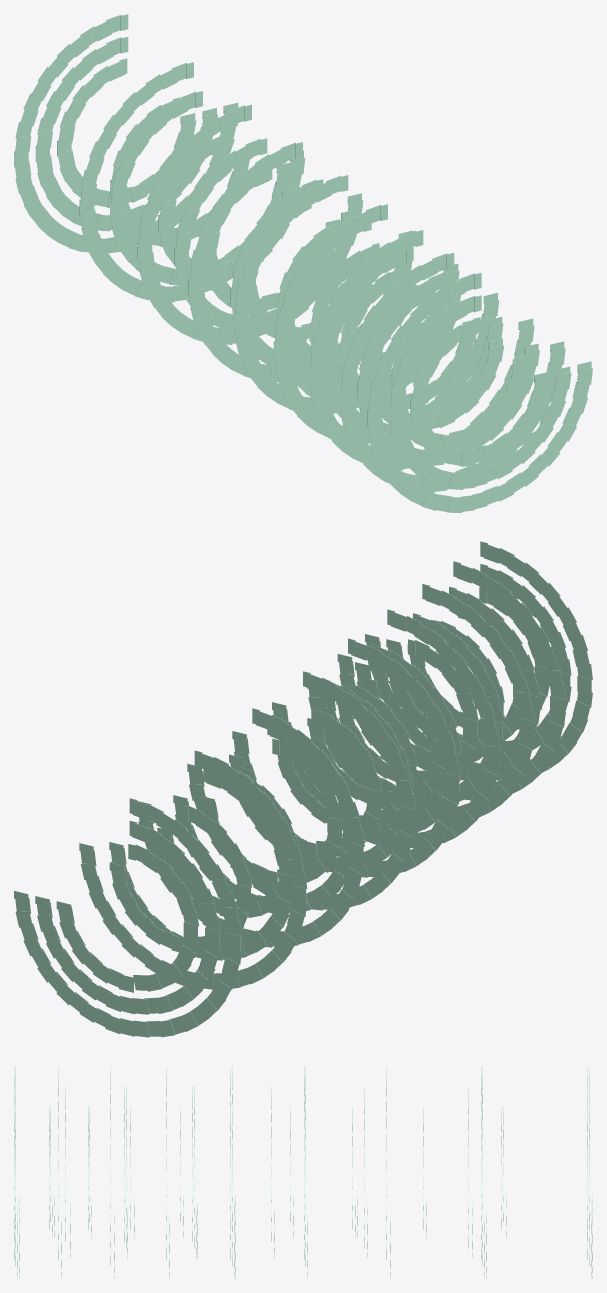
The model's file is ITK-Pixel-Layout-Outer-Endcap-SideC-cut3.glb.
3 views of the same model, one above another, from view 1: azimuth 30°, elevation 25°; view 2: azimuth 150°, elevation 25°; view 3: azimuth 270°, elevation 25° (orthographic). The views are drawn at different scales.
Visible parts, largest first — view 1: ITK_Pixel_Layout_Outer_Endcap_SideC Cut 3; view 2: ITK_Pixel_Layout_Outer_Endcap_SideC Cut 3; view 3: ITK_Pixel_Layout_Outer_Endcap_SideC Cut 3.
Boxes of the visible parts, left/top/right/bottom form: ITK_Pixel_Layout_Outer_Endcap_SideC Cut 3: left=14, top=14, right=592, bottom=512; ITK_Pixel_Layout_Outer_Endcap_SideC Cut 3: left=14, top=541, right=592, bottom=1037; ITK_Pixel_Layout_Outer_Endcap_SideC Cut 3: left=14, top=1066, right=592, bottom=1278.
Size of the model in its own units: 0.6311 by 0.6311 by 1.72.
